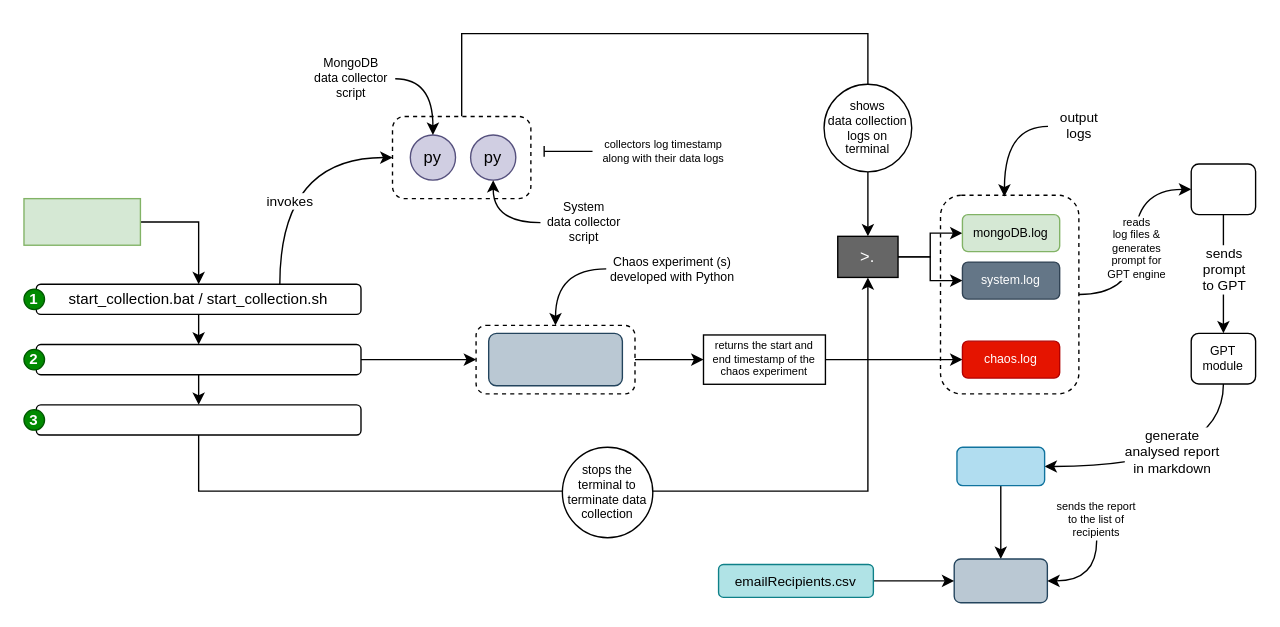
This 1280x627 diagram has some shape labels left out. The shapes that lost their labels are listed below. From the top down, each one's centre as x and y in pixels, then its label:
At (1223,189): "prompt generator".
At (81,221): "IntelliChaos".
At (198,359): "start_chaos.bat / start_chaos.sh".
At (554,359): "chaosExp.py".
At (198,419): "stop_collection.bat / stop_collection.sh".
At (1000,466): "result.MD".
At (1000,580): "mailer.py".
